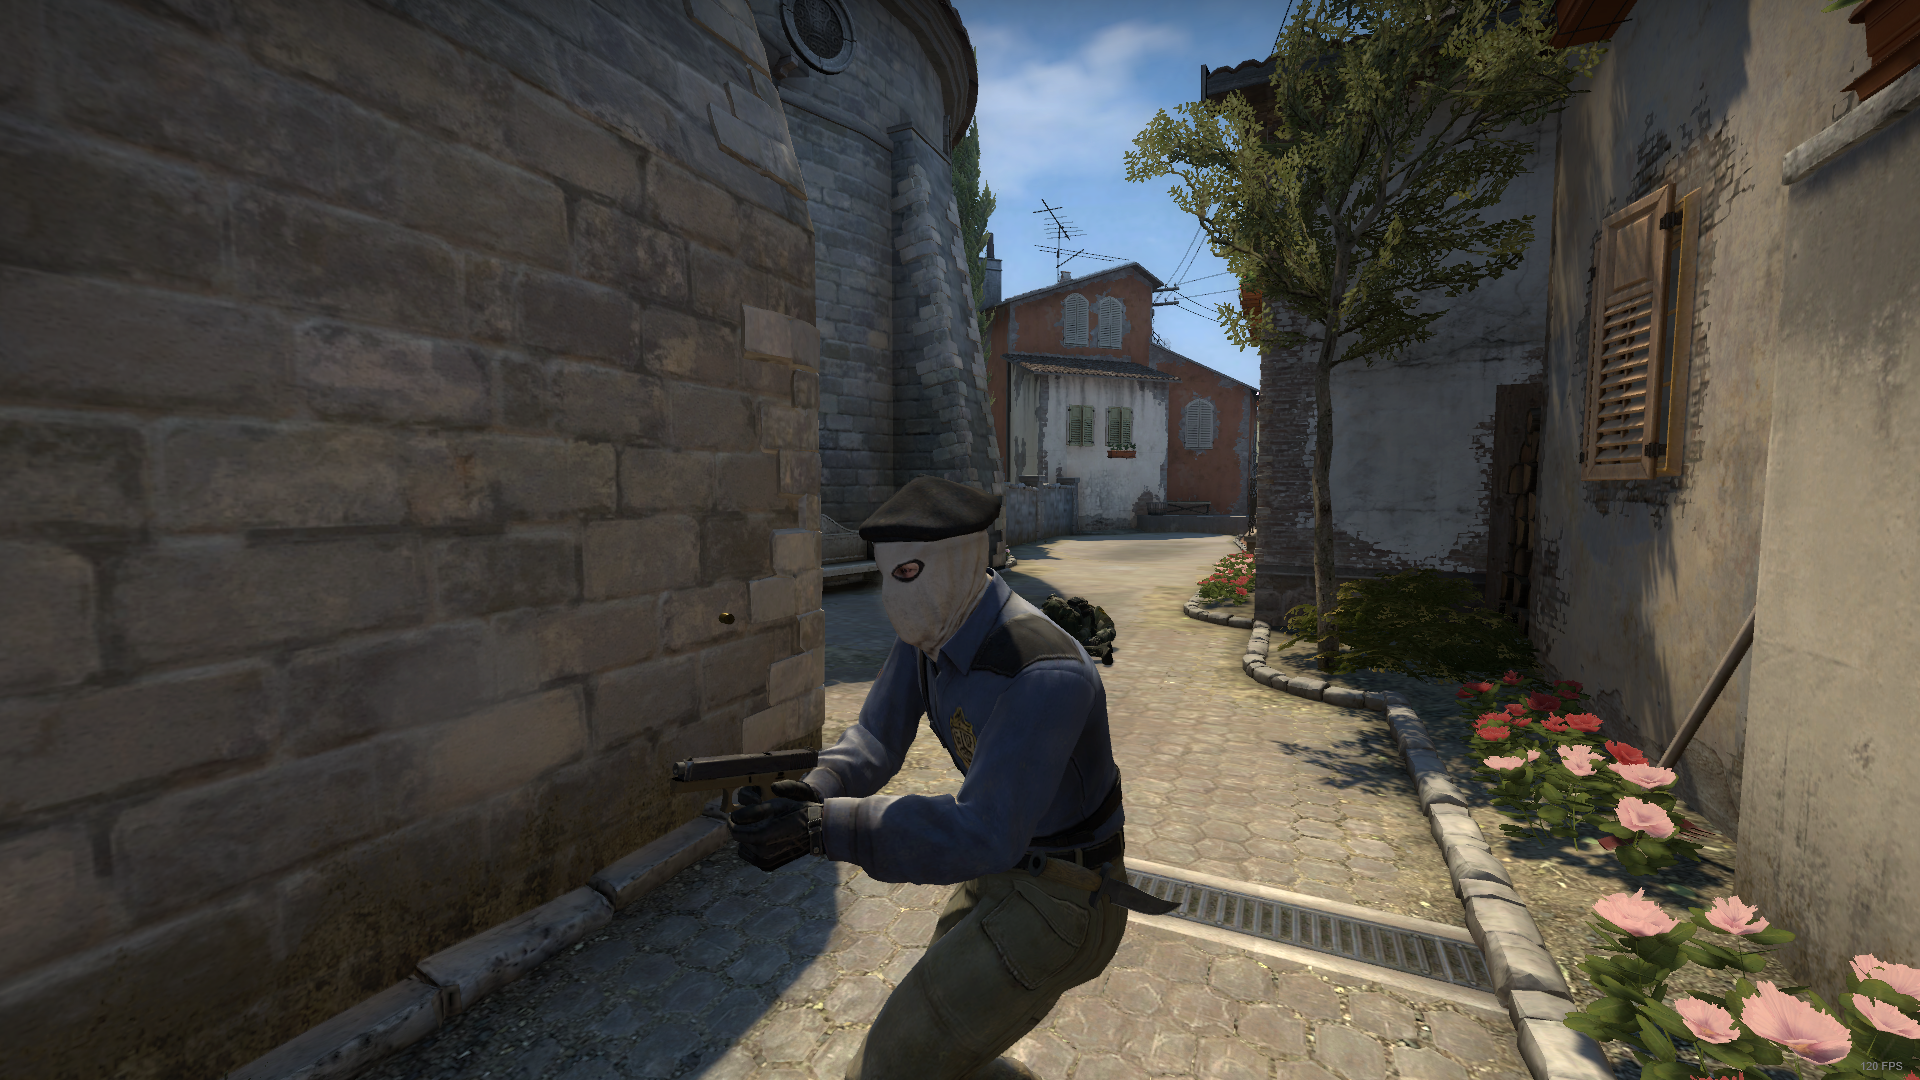t: (708, 455, 1216, 1080)
